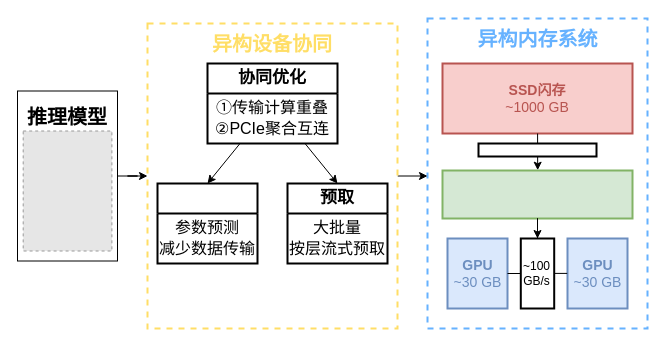
Image size: 666x346. Some labels were removed from this diagram. Grey dashed boxes stand in for pictures. Each missing label, with the box of its shape:
DRAM ~100 GB: (441, 169, 633, 219)
~1 GB/s: (477, 142, 597, 157)
选择性加载: (156, 182, 258, 264)
